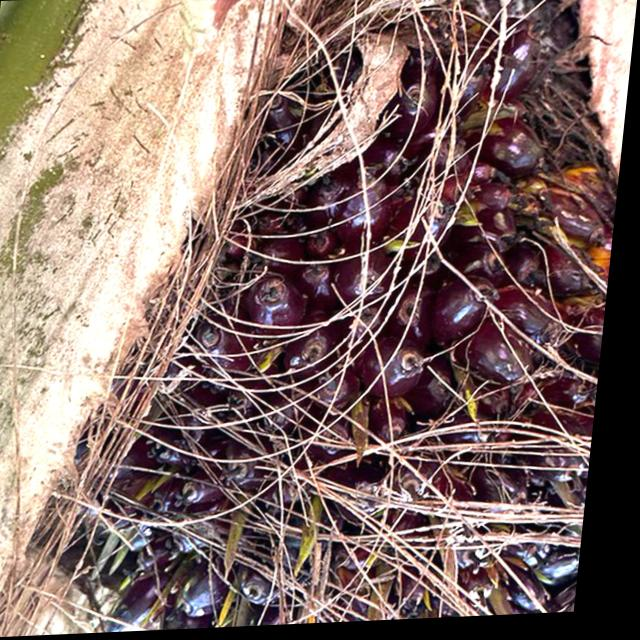almost: (24, 0, 634, 637)
